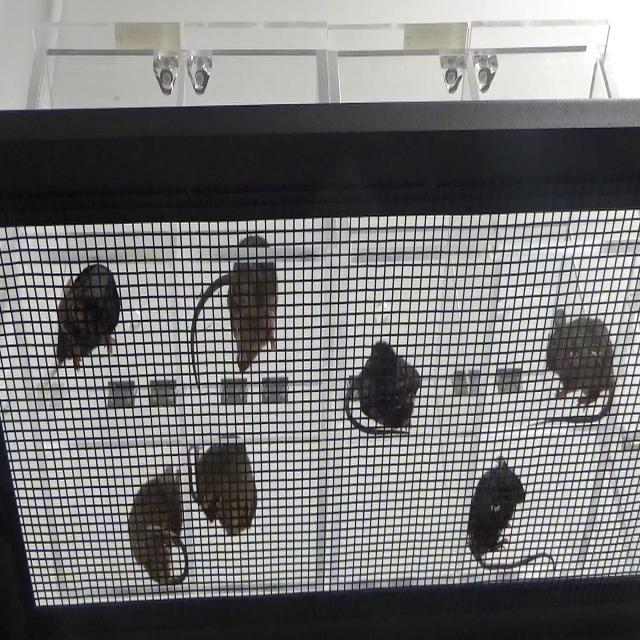lick tail: (39, 260, 131, 400), (111, 452, 193, 596)
scratch: (334, 331, 440, 467)
